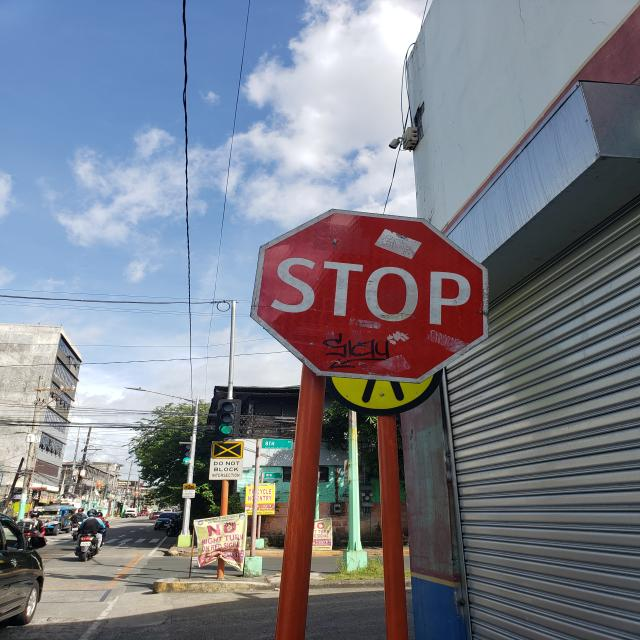stop-sign: (249, 208, 489, 384)
